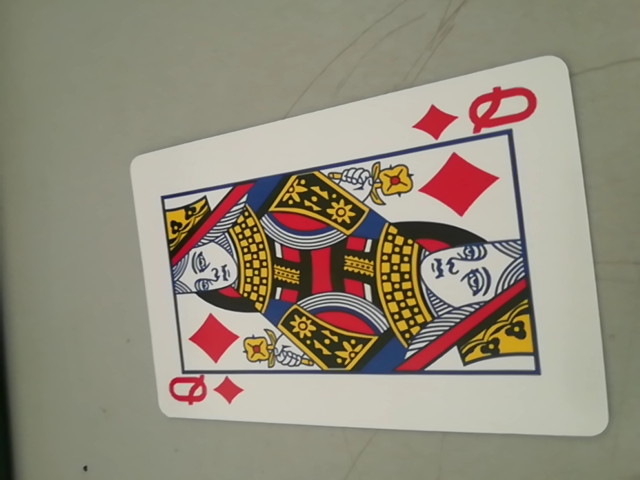fk q: (414, 81, 546, 144), (163, 367, 245, 417)
